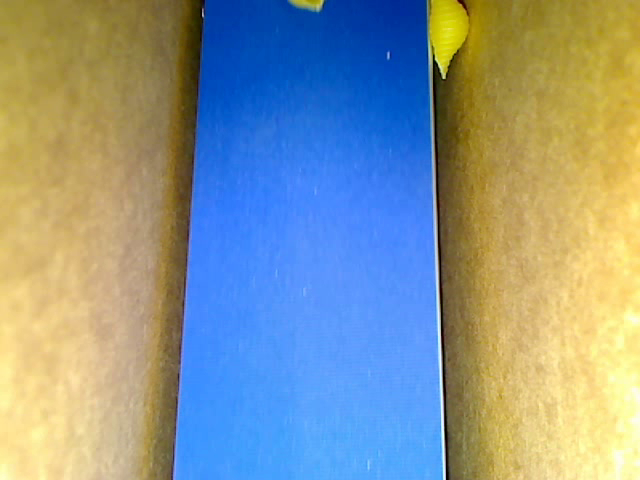shell: (429, 1, 475, 81)
